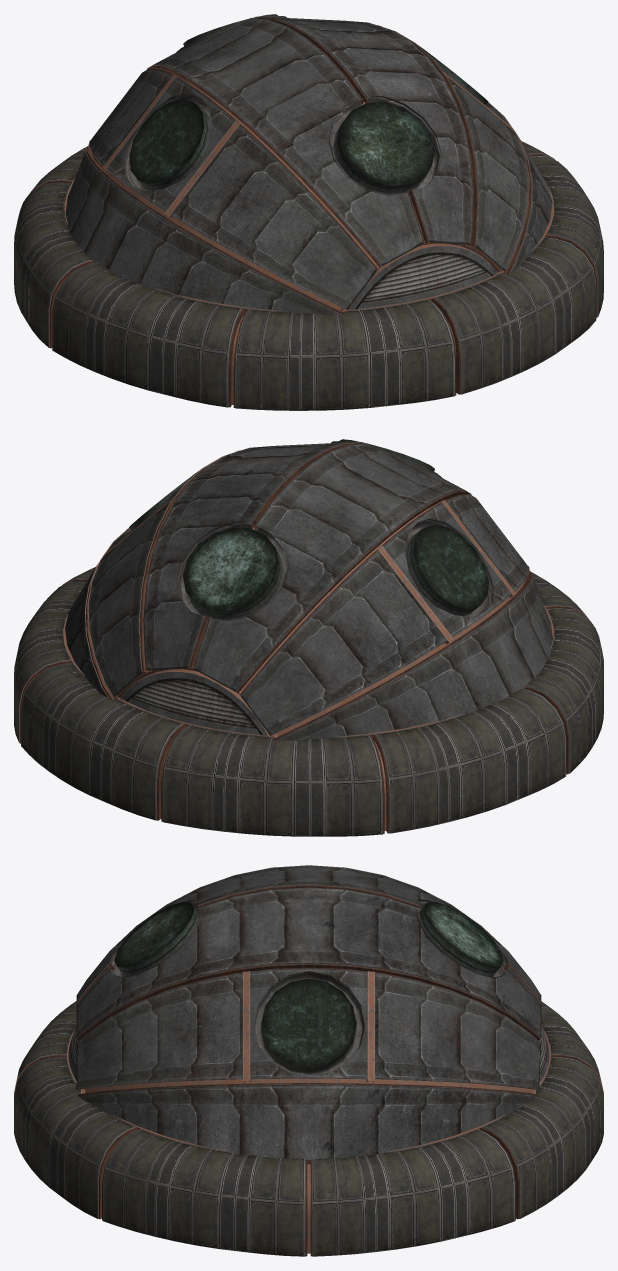
File: 01_02_comm_room_roof_pplant.dae
3 views of the same model, one above another, from view 1: azimuth 30°, elevation 25°; view 2: azimuth 150°, elevation 25°; view 3: azimuth 270°, elevation 25° (orthographic).
Visible parts, largest first — view 1: top_plates_low_windows, lower, windows, top_girders_windows; view 2: top_plates_low_windows, lower, windows, top_girders_windows; view 3: top_plates_low_windows, lower, windows, top_girders_windows.
Boxes of the visible parts, x1=… form: top_plates_low_windows: x1=65, y1=16, x2=552, y2=314; lower: x1=14, y1=141, x2=603, y2=410; windows: x1=124, y1=14, x2=492, y2=195; top_girders_windows: x1=85, y1=16, x2=532, y2=314; top_plates_low_windows: x1=65, y1=442, x2=552, y2=740; lower: x1=14, y1=567, x2=603, y2=836; windows: x1=124, y1=439, x2=493, y2=621; top_girders_windows: x1=85, y1=442, x2=532, y2=740; top_plates_low_windows: x1=68, y1=865, x2=549, y2=1159; lower: x1=14, y1=1001, x2=603, y2=1256; windows: x1=107, y1=885, x2=510, y2=1075; top_girders_windows: x1=77, y1=884, x2=540, y2=1095.
Size of the model in its own units: 15.75 by 7.25 by 15.75.
